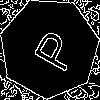P: (24, 23, 80, 75)
